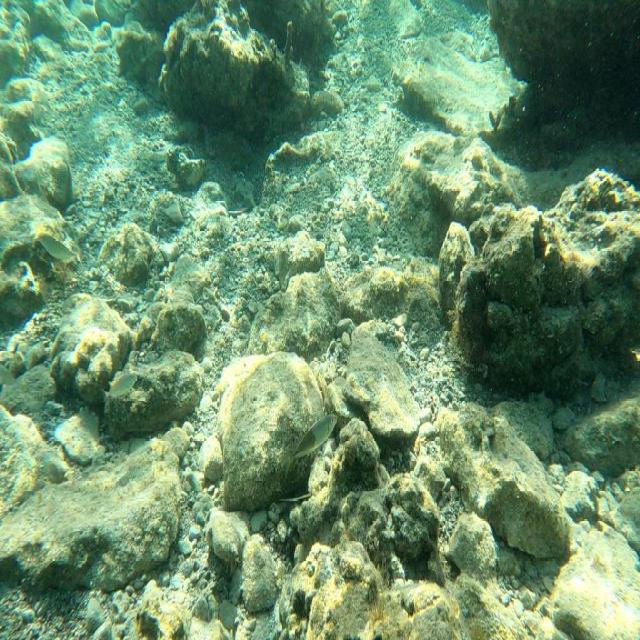Sokar Baligi: (275, 403, 345, 495)
